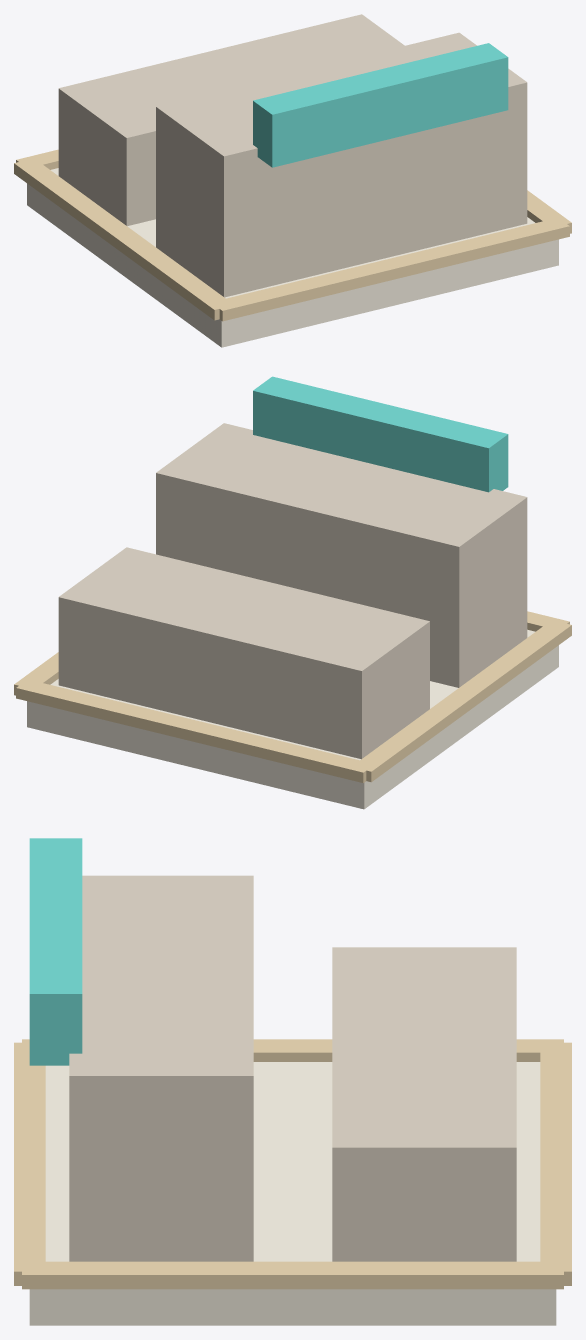
Rendered from city.escalator.glb.
The picture shows the model from 3 angles, top to bottom: view 1: azimuth 30°, elevation 25°; view 2: azimuth 150°, elevation 25°; view 3: azimuth 270°, elevation 25°; orthographic projection. The views are drawn at different scales.
Visible parts, largest first — view 1: city.escalator; view 2: city.escalator; view 3: city.escalator.
Boxes of the visible parts, <box> form: city.escalator: <box>14,14,571,347</box>; city.escalator: <box>14,376,571,809</box>; city.escalator: <box>14,838,571,1325</box>.
Size of the model in its own units: 2.12 by 1.25 by 2.12.
